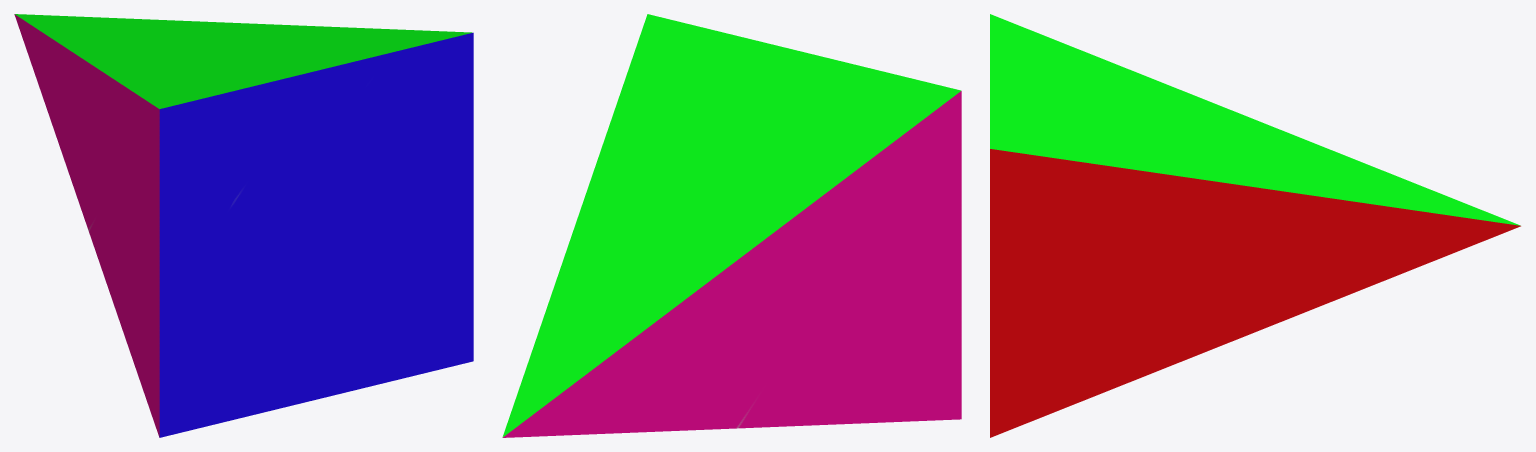
The model's file is Pointer Direction.fbx.
The picture shows the model from 3 angles, left to right: view 1: azimuth 30°, elevation 25°; view 2: azimuth 150°, elevation 25°; view 3: azimuth 270°, elevation 25°; orthographic projection. The views are drawn at different scales.
Parts seen in each view (by area): view 1: Cube; view 2: Cube; view 3: Cube.
Part boxes in pixels (x1,y1,x2,y2): Cube: (14,14,473,437); Cube: (502,14,961,437); Cube: (990,14,1520,437).
Size of the model in its own units: 120 by 120 by 200.
1 material, 1 textured.
